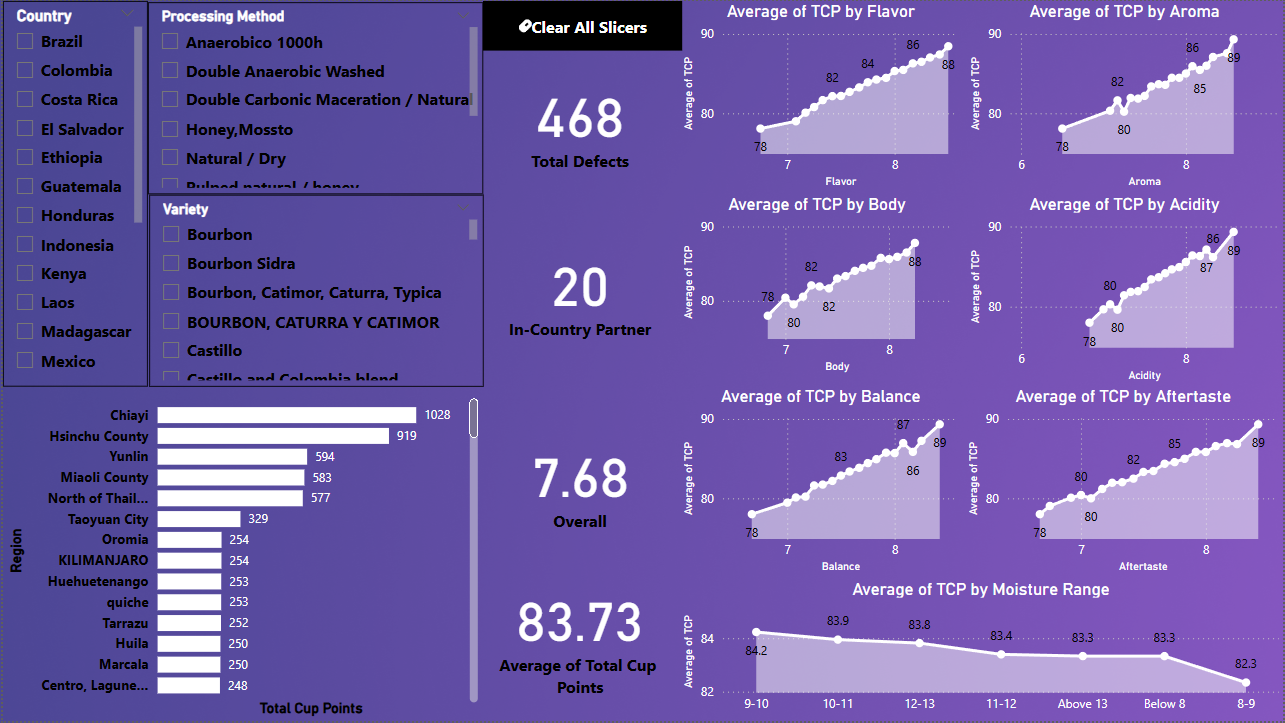

What the dashboard file says about the page in this screenshot:
{"tool":"powerbi","page":{"name":"Page 4","canvas":[1280,720],"ordinal":4},"visuals":[{"type":"slicer","fields":{"Values":["Coffee.Country"]},"box":[0,0,144.6,385.2],"z":0},{"type":"lineChart","fields":{"Category":["Coffee.Aroma"],"Y":["Avg(Coffee.Total Cup Points)"]},"box":[962.5,0,317.9,192],"z":1000},{"type":"lineChart","fields":{"Category":["Coffee.Acidity"],"Y":["Avg(Coffee.Total Cup Points)"]},"box":[962.5,192,317.9,193.2],"z":2000},{"type":"lineChart","fields":{"Y":["Avg(Coffee.Total Cup Points)"],"Category":["Coffee.Flavor"]},"box":[674.5,0,285.5,192],"z":3000},{"type":"lineChart","fields":{"Y":["Avg(Coffee.Total Cup Points)"],"Category":["Coffee.Body"]},"box":[674.5,192,278,184.5],"z":4000},{"type":"lineChart","fields":{"Y":["Avg(Coffee.Total Cup Points)"],"Category":["Coffee.Aftertaste"]},"box":[960,385.2,320.4,192],"z":5000},{"type":"lineChart","fields":{"Y":["Avg(Coffee.Total Cup Points)"],"Category":["Coffee.Balance"]},"box":[674.5,385.2,285.5,192],"z":6000},{"type":"lineChart","fields":{"Y":["Avg(Coffee.Total Cup Points)"],"Category":["Coffee.Moisture Range"]},"box":[674.5,577.2,605.9,143.4],"z":7000},{"type":"slicer","fields":{"Values":["Coffee.Processing Method"]},"box":[144.6,1.2,335.4,192],"z":8000},{"type":"clusteredBarChart","fields":{"Y":["Sum(Coffee.Total Cup Points)"],"Category":["Coffee.Region"]},"box":[0,385.2,480,335.4],"z":9000},{"type":"slicer","fields":{"Values":["Coffee.Variety"]},"box":[145.9,193.2,334.1,192],"z":10000},{"type":"card","fields":{"Values":["Avg(Coffee.Total Cup Points)"]},"box":[480,529.9,194.5,190.8],"z":11000},{"type":"card","fields":{"Values":["Avg(Coffee.Overall)"]},"box":[480,385.2,194.5,192],"z":12000},{"type":"card","fields":{"Values":["Count(Coffee.In-Country Partner)"]},"box":[480,193.2,194.5,192],"z":13000},{"type":"actionButton","box":[480,0,199.5,49.9],"z":14000},{"type":"card","fields":{"Values":["Sum(Coffee.Total Defects)"]},"box":[480,49.9,194.5,142.1],"z":15000}]}

Visuals, with their boxes in screenshot pixels (x1, y1, x2, y2), scaled from the page's 1280x720 canvas onto the 1285x723 screenshot:
slicer - Coffee.Country: (x1=0, y1=0, x2=145, y2=387)
lineChart - Coffee.Aroma x Avg(Coffee.Total Cup Points): (x1=966, y1=0, x2=1284, y2=193)
lineChart - Coffee.Acidity x Avg(Coffee.Total Cup Points): (x1=966, y1=193, x2=1284, y2=387)
lineChart - Avg(Coffee.Total Cup Points) x Coffee.Flavor: (x1=677, y1=0, x2=964, y2=193)
lineChart - Avg(Coffee.Total Cup Points) x Coffee.Body: (x1=677, y1=193, x2=956, y2=378)
lineChart - Avg(Coffee.Total Cup Points) x Coffee.Aftertaste: (x1=964, y1=387, x2=1284, y2=580)
lineChart - Avg(Coffee.Total Cup Points) x Coffee.Balance: (x1=677, y1=387, x2=964, y2=580)
lineChart - Avg(Coffee.Total Cup Points) x Coffee.Moisture Range: (x1=677, y1=580, x2=1284, y2=722)
slicer - Coffee.Processing Method: (x1=145, y1=1, x2=482, y2=194)
clusteredBarChart - Sum(Coffee.Total Cup Points) x Coffee.Region: (x1=0, y1=387, x2=482, y2=722)
slicer - Coffee.Variety: (x1=146, y1=194, x2=482, y2=387)
card - Avg(Coffee.Total Cup Points): (x1=482, y1=532, x2=677, y2=722)
card - Avg(Coffee.Overall): (x1=482, y1=387, x2=677, y2=580)
card - Count(Coffee.In-Country Partner): (x1=482, y1=194, x2=677, y2=387)
actionButton: (x1=482, y1=0, x2=682, y2=50)
card - Sum(Coffee.Total Defects): (x1=482, y1=50, x2=677, y2=193)
